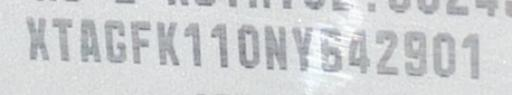letter: (372, 27, 400, 76), (458, 30, 484, 79), (24, 14, 50, 61), (401, 30, 427, 77), (431, 30, 457, 77), (263, 24, 289, 69), (50, 17, 74, 62), (77, 17, 101, 62), (104, 18, 128, 63), (156, 20, 180, 65), (236, 22, 260, 67), (318, 26, 342, 71), (346, 28, 370, 73), (182, 20, 204, 67), (208, 21, 230, 68), (292, 24, 314, 71), (129, 19, 151, 64)
